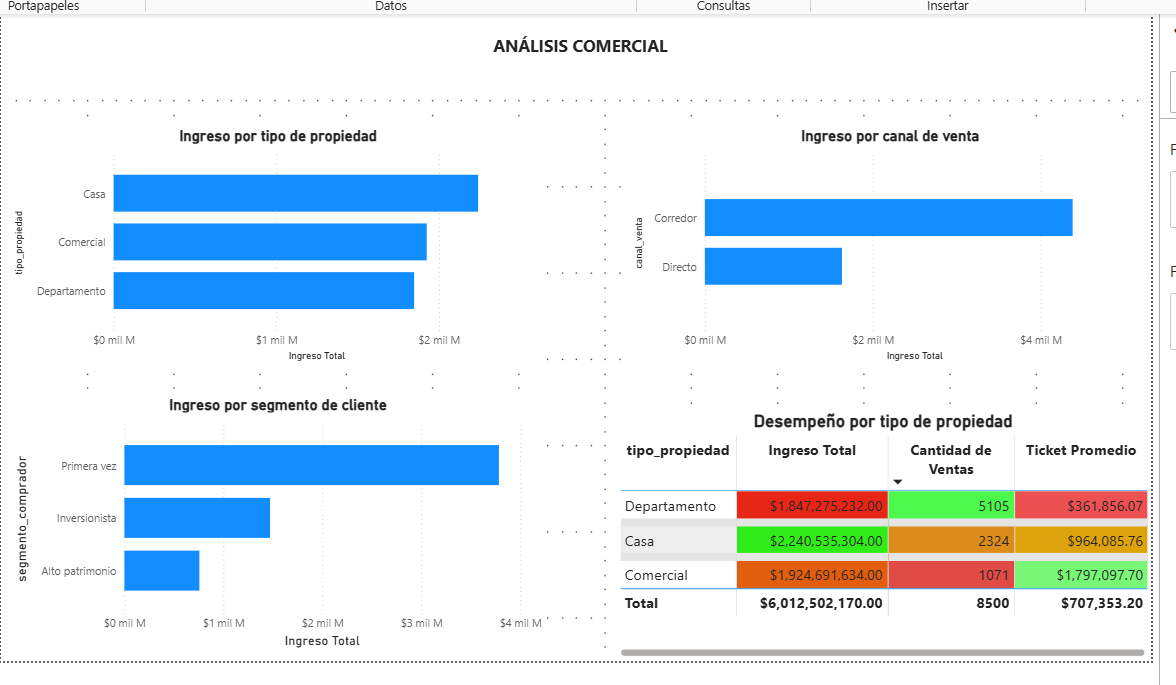

This screenshot's page, from the dashboard's own definition file:
{"tool":"powerbi","page":{"name":"Análisis Comercial","canvas":[1280,720],"ordinal":1},"visuals":[{"type":"textbox","box":[10.1,0,1270.2,94],"z":0},{"type":"barChart","title":"Ingreso por tipo de propiedad","fields":{"Category":["dim_propiedades.tipo_propiedad"],"Y":["hecho_ventas_propiedades.Ingreso Total"]},"box":[10.1,125.9,597.5,266.2],"z":1},{"type":"barChart","title":"Ingreso por canal de venta","fields":{"Category":["hecho_ventas_propiedades.canal_venta"],"Y":["hecho_ventas_propiedades.Ingreso Total"]},"box":[700.2,125.9,580.1,266.2],"z":2},{"type":"barChart","title":"Ingreso por segmento de cliente","fields":{"Category":["dim_clientes.segmento_comprador"],"Y":["hecho_ventas_propiedades.Ingreso Total"]},"box":[10.1,423.9,597.5,286.4],"z":3},{"type":"tableEx","title":"Desempeño por tipo de propiedad","fields":{"Values":["dim_propiedades.tipo_propiedad","hecho_ventas_propiedades.Ingreso Total","hecho_ventas_propiedades.Cantidad de Ventas","hecho_ventas_propiedades.Ticket Promedio"]},"box":[682.8,442.7,597.5,277.8],"z":4}]}

Visuals, with their boxes on the page's 1280x720 design canvas (x1, y1, x2, y2). These are canvas units, not pixel positions in the 1176x685 screenshot, which may show the page scaled, cropped or inside an application window:
textbox: rect(10, 0, 1280, 94)
"Ingreso por tipo de propiedad" barChart: rect(10, 126, 608, 392)
"Ingreso por canal de venta" barChart: rect(700, 126, 1280, 392)
"Ingreso por segmento de cliente" barChart: rect(10, 424, 608, 710)
"Desempeño por tipo de propiedad" tableEx: rect(683, 443, 1280, 720)
